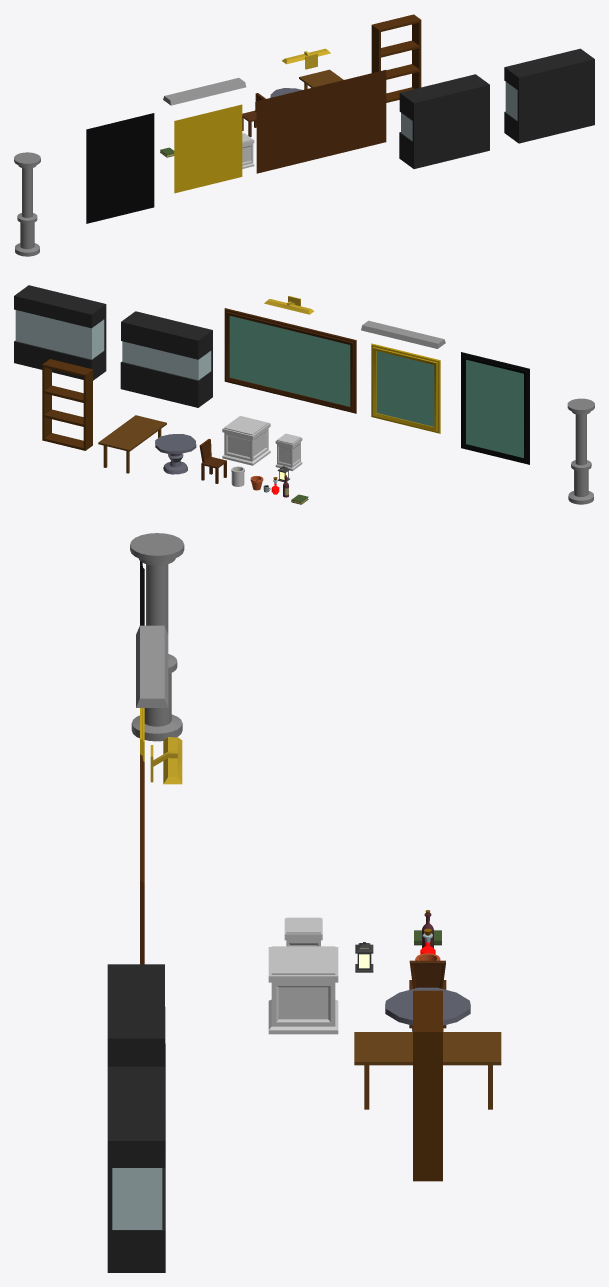
The model's file is Props.fbx.
3 renders of one model, top to bottom at view 1: azimuth 30°, elevation 25°; view 2: azimuth 150°, elevation 25°; view 3: azimuth 270°, elevation 25°, orthographic. The views are drawn at different scales.
Parts seen in each view (by area): view 1: Frame2, DisplayCase, DisplayCase.2, Frame1, Frame3, Shelf.1, Pillar, Ceiling Light, Table.1, Museum Light, Glass.2, Pedestal.2; view 2: Picture2, DisplayCase, Picture1, DisplayCase.2, Picture3, Shelf.1, Glass.2, Frame2, Pedestal, Glass, Frame1, Pillar (+7 smaller); view 3: DisplayCase.2, Pedestal, DisplayCase, Shelf.1, Table.1, Pillar, Glass.2, Ceiling Light, Table.2, Museum Light, Pedestal.2, Chair.1 (+1 smaller).
Boxes of the visible parts, box(x1,y1,x2,y2) form: Frame2: box(256, 70, 386, 173); DisplayCase: box(399, 74, 489, 168); DisplayCase.2: box(504, 48, 594, 143); Frame1: box(86, 113, 154, 223); Frame3: box(174, 104, 242, 193); Shelf.1: box(371, 14, 421, 102); Pillar: box(14, 152, 40, 256); Ceiling Light: box(163, 78, 246, 105); Table.1: box(299, 69, 343, 89); Museum Light: box(282, 48, 330, 69); Glass.2: box(505, 82, 517, 120); Pedestal.2: box(242, 133, 254, 168); Picture2: box(229, 316, 350, 406); DisplayCase: box(120, 311, 212, 407); Picture1: box(466, 359, 523, 457); DisplayCase.2: box(14, 285, 106, 380); Picture3: box(376, 351, 434, 426); Shelf.1: box(42, 359, 92, 450); Glass.2: box(15, 310, 104, 359); Frame2: box(224, 308, 356, 413); Pedestal: box(222, 416, 270, 465); Glass: box(122, 341, 211, 380); Frame1: box(461, 352, 529, 464); Pillar: box(567, 398, 594, 504); DisplayCase.2: box(107, 1066, 165, 1272); Pedestal: box(268, 946, 338, 1034); DisplayCase: box(107, 964, 165, 1156); Shelf.1: box(413, 990, 442, 1181); Table.1: box(354, 1032, 501, 1109); Pillar: box(130, 533, 184, 741); Glass.2: box(112, 1168, 162, 1229); Ceiling Light: box(136, 625, 168, 707); Table.2: box(385, 987, 470, 1031); Museum Light: box(150, 737, 182, 784); Pedestal.2: box(284, 917, 322, 946); Chair.1: box(409, 960, 446, 1028).
Bounding box in the file's own units: 21.78 × 4.82 × 6.55.
